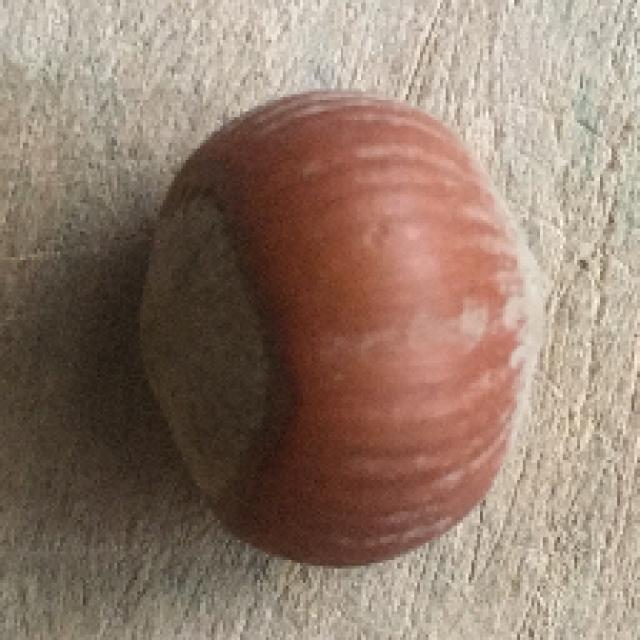qualityHazelnut: (128, 77, 554, 564)
